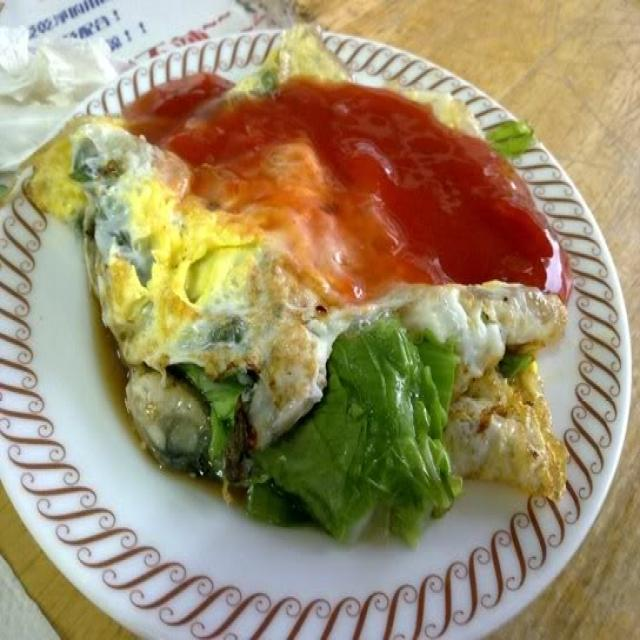熟制海鲜: (12, 39, 612, 607)
